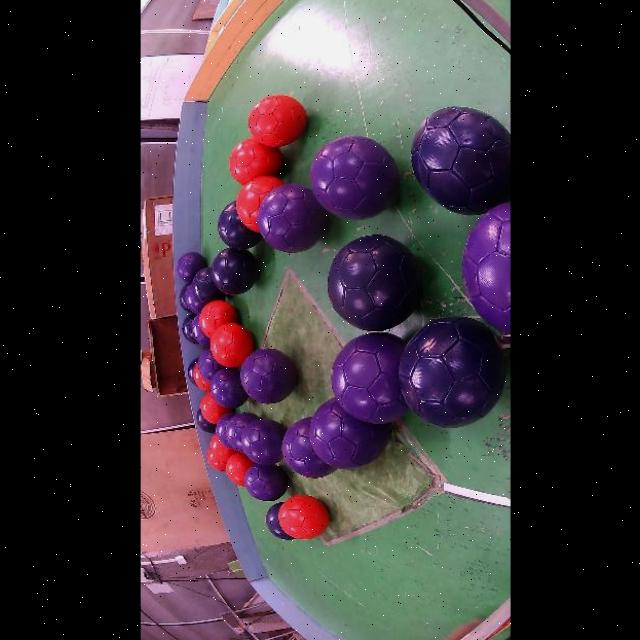B: (397, 315, 503, 427), (410, 106, 508, 216), (326, 235, 419, 330), (209, 248, 257, 296), (216, 202, 261, 249), (190, 267, 223, 303), (263, 503, 292, 540), (194, 409, 215, 433), (180, 314, 196, 344), (177, 283, 189, 312), (185, 359, 197, 386)
P: (308, 136, 397, 221), (329, 332, 406, 423), (307, 397, 388, 469), (256, 184, 326, 253), (280, 416, 334, 478), (239, 348, 296, 404), (239, 419, 284, 465), (243, 464, 287, 501), (208, 368, 247, 409), (225, 413, 259, 452), (175, 252, 206, 283), (197, 348, 222, 382), (215, 413, 234, 450), (184, 285, 204, 314), (190, 315, 208, 347)
R: (247, 95, 305, 148), (235, 176, 282, 233), (227, 137, 280, 185), (278, 495, 328, 539), (208, 323, 252, 368), (198, 301, 236, 338), (199, 392, 231, 424), (225, 452, 252, 486), (208, 434, 235, 461), (204, 447, 225, 472), (191, 365, 207, 392)
